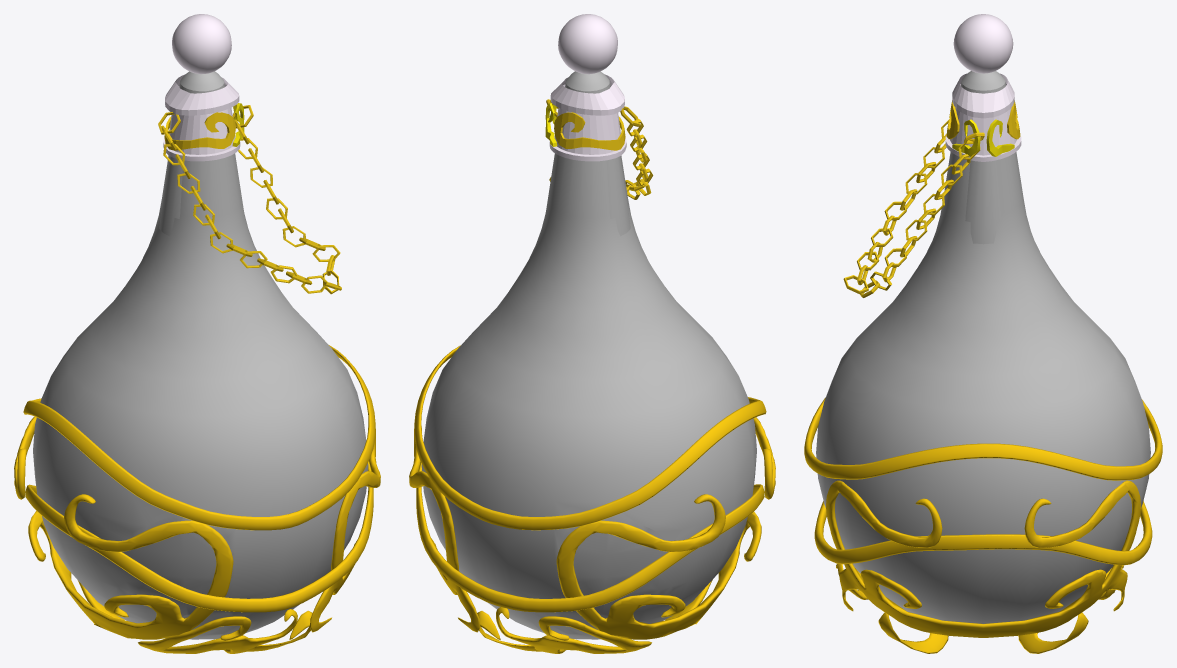
File: bottle_magic.glb
The picture shows the model from 3 angles, left to right: view 1: azimuth 30°, elevation 25°; view 2: azimuth 150°, elevation 25°; view 3: azimuth 270°, elevation 25°; orthographic projection.
Visible parts, largest first — view 1: Object_7, Object_8, Object_9, Object_10; view 2: Object_7, Object_8, Object_9, Object_10; view 3: Object_7, Object_8, Object_9, Object_10, Object_6.
Boxes of the visible parts, <box> form: Object_7: <box>33,71,368,639</box>; Object_8: <box>14,345,380,653</box>; Object_9: <box>163,14,240,161</box>; Object_10: <box>158,105,341,294</box>; Object_7: <box>421,71,756,639</box>; Object_8: <box>409,345,775,653</box>; Object_9: <box>549,14,626,161</box>; Object_10: <box>546,99,653,199</box>; Object_7: <box>816,71,1150,623</box>; Object_8: <box>804,397,1162,653</box>; Object_9: <box>945,14,1021,161</box>; Object_10: <box>843,100,1020,297</box>; Object_6: <box>952,119,1014,156</box>.
Size of the model in its own units: 2.07 by 3.95 by 2.08.
